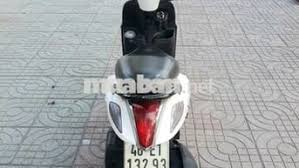Bien-so: (125, 139, 170, 167)
